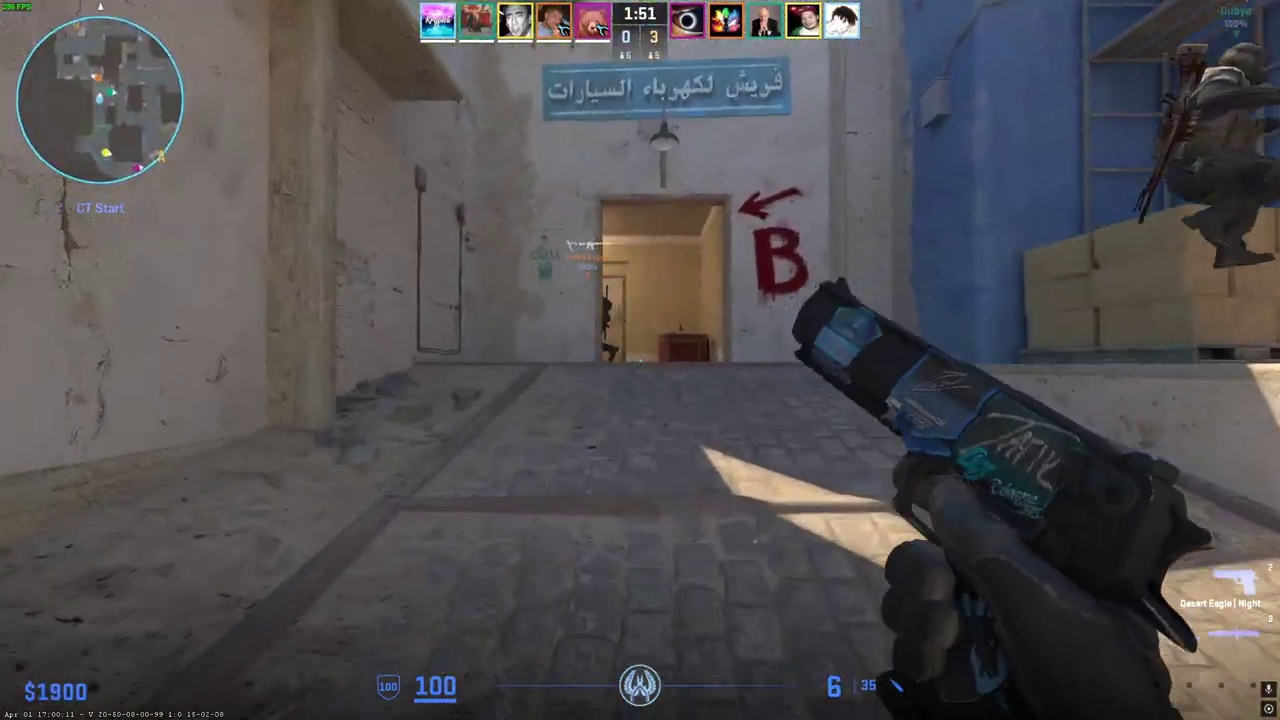CT: (1173, 42, 1280, 269)
